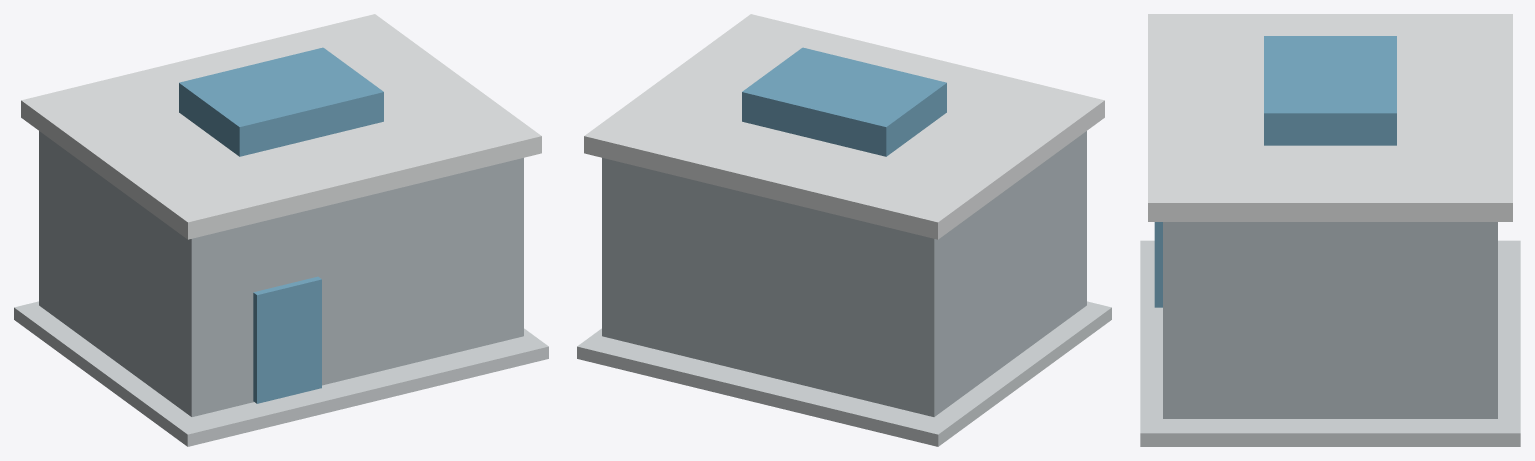
File: sorter.glb
3 views of the same model, side by side, from view 1: azimuth 30°, elevation 25°; view 2: azimuth 150°, elevation 25°; view 3: azimuth 270°, elevation 25° (orthographic). The views are drawn at different scales.
Parts seen in each view (by area): view 1: sorter; view 2: sorter; view 3: sorter.
Part boxes in pixels (x1,y1,x2,y2): sorter: (14, 14, 548, 446); sorter: (577, 14, 1111, 446); sorter: (1140, 14, 1520, 446).
Bounding box in the file's own units: 6 × 4 × 5.
